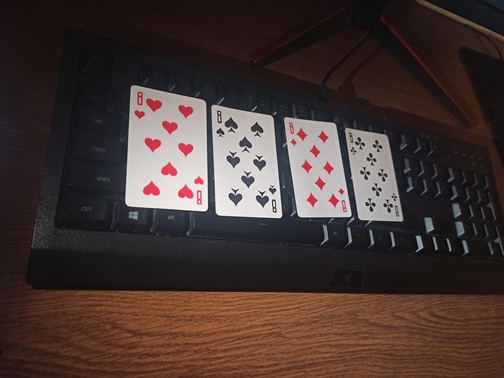eightclubs: (343, 127, 402, 223)
eightdiamonds: (285, 116, 355, 219)
eighthearts: (124, 87, 211, 212)
eightspades: (209, 105, 284, 219)
